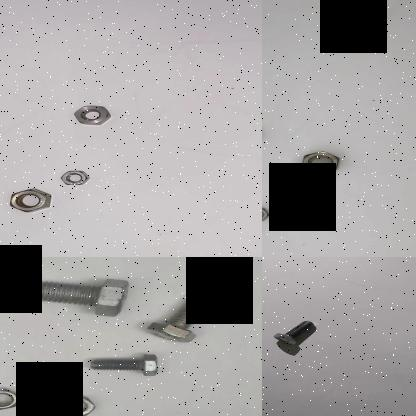Bolts: (29, 273, 137, 321), (143, 285, 223, 343), (86, 347, 164, 376), (270, 319, 318, 345)
NUTS: (5, 186, 53, 215), (50, 390, 100, 416), (68, 100, 113, 128), (298, 148, 344, 174), (0, 381, 27, 413), (56, 166, 94, 188), (262, 202, 273, 223)
